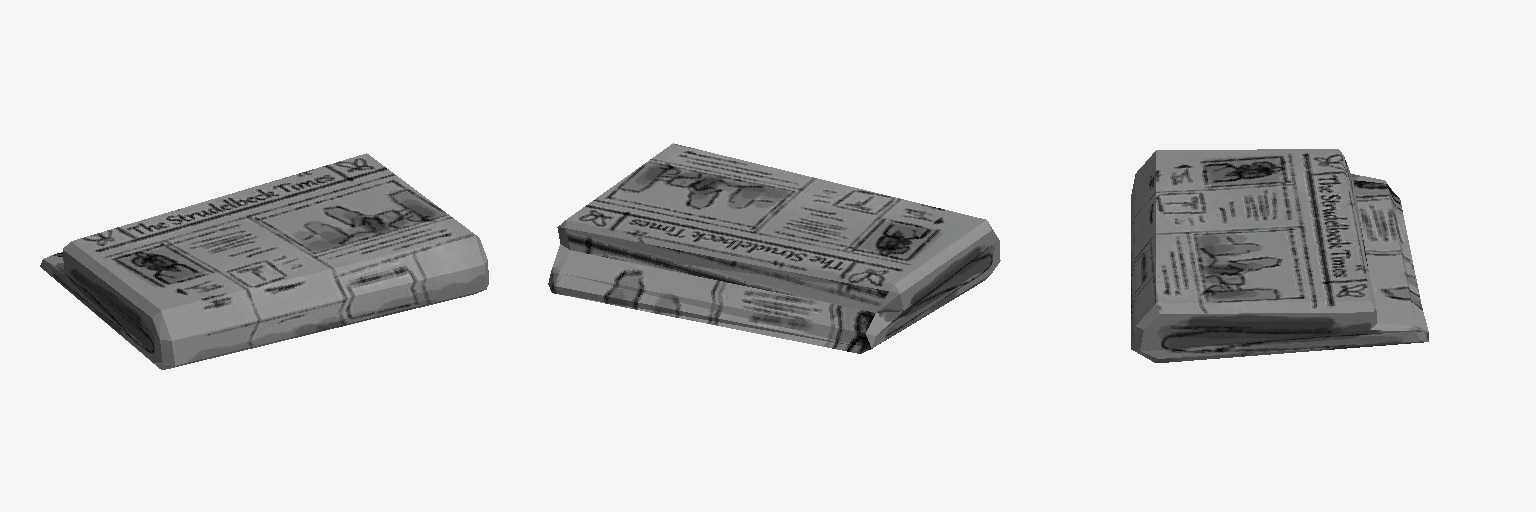
The picture shows the model from 3 angles: view 1: azimuth 30°, elevation 25°; view 2: azimuth 150°, elevation 25°; view 3: azimuth 270°, elevation 25°; orthographic projection.
Parts seen in each view (by area): view 1: Quest_Newspaper; view 2: Quest_Newspaper; view 3: Quest_Newspaper.
Part boxes in pixels (left/top/right/bottom): Quest_Newspaper: left=40, top=153, right=488, bottom=369; Quest_Newspaper: left=548, top=143, right=1000, bottom=353; Quest_Newspaper: left=1131, top=149, right=1428, bottom=362.
Bounding box in the file's own units: 1.27 × 0.2312 × 1.
Materials: 1 (1 with a texture image).